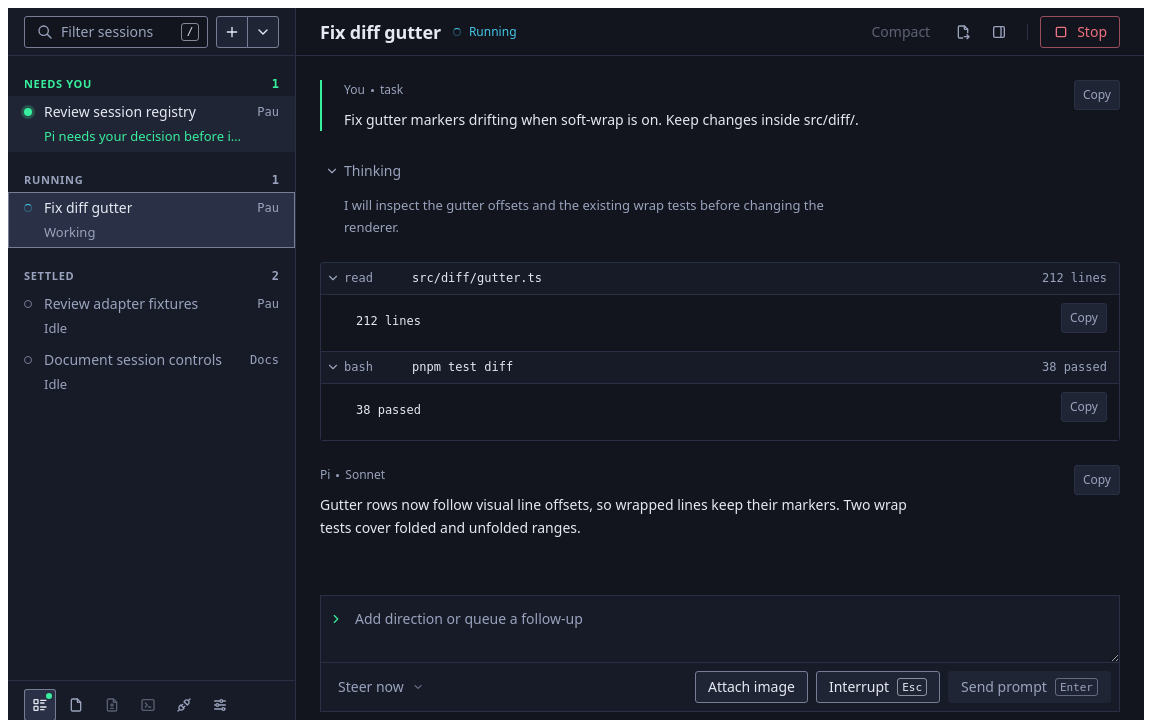
Test: switches concurrent sessions with the keyboard
Step 1. Click the button "Fix diff gutter Pau Working" → click(88, 208), box [8,192,295,248]
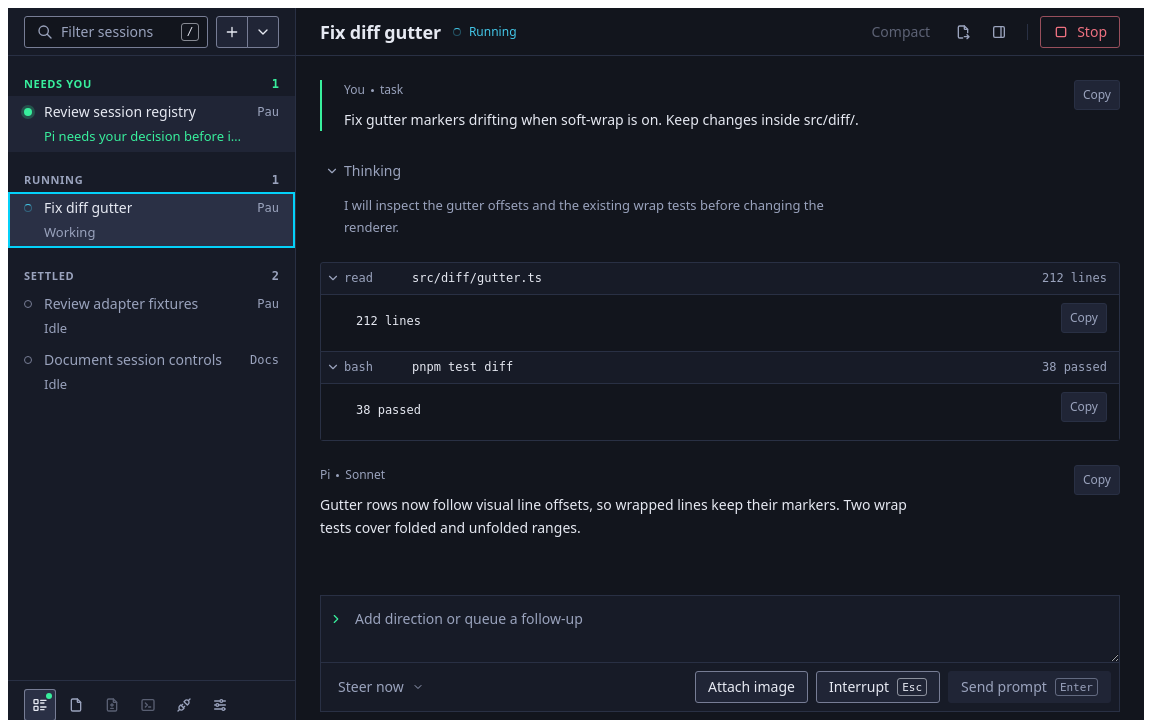
Step 2. Press Arrowdown
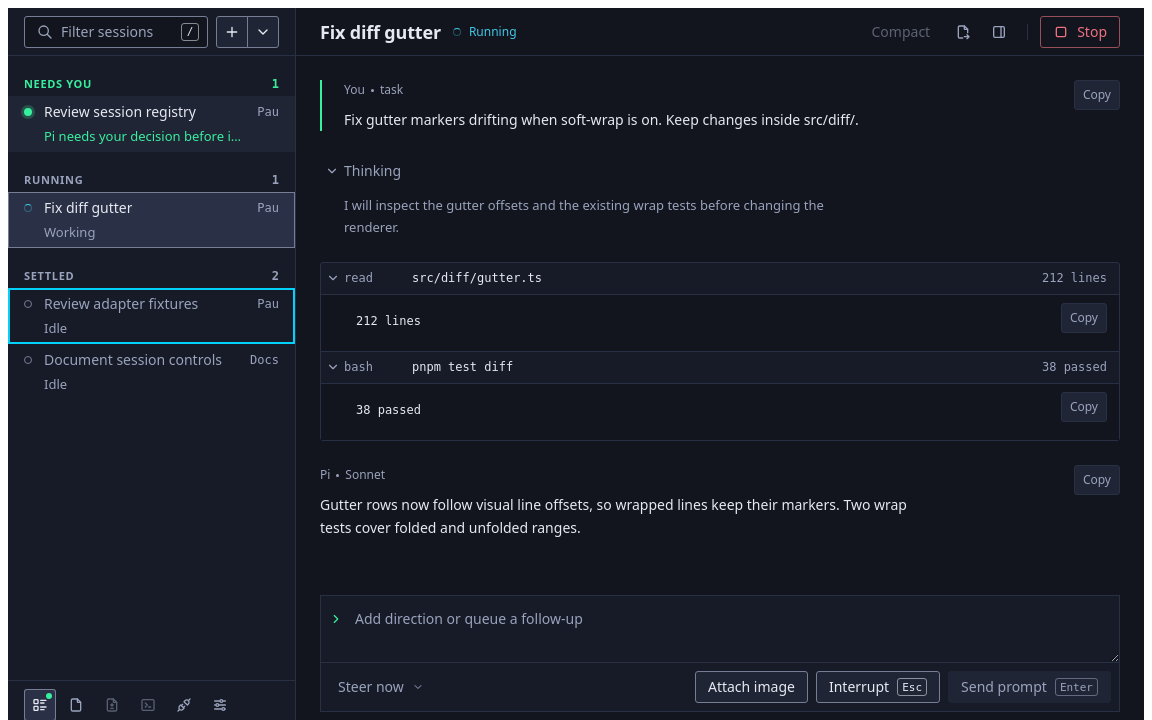
Step 3. Press Enter
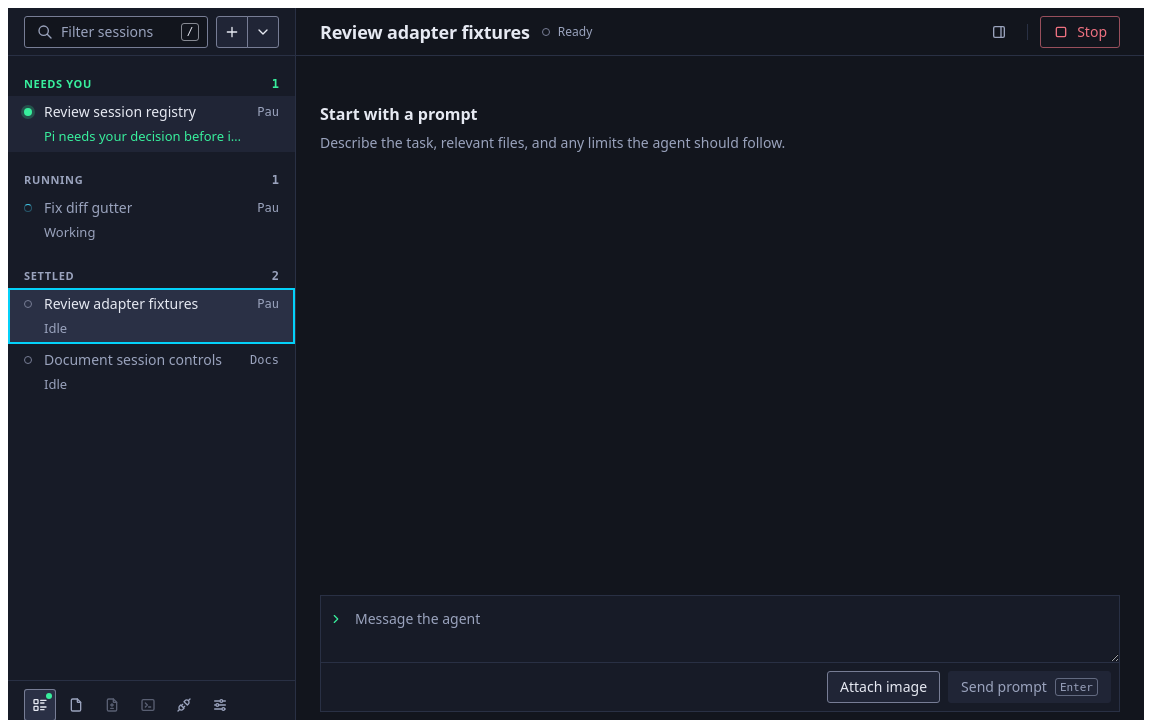
Result: the heading "Review adapter fixtures" is shown at [320,14,530,50]
